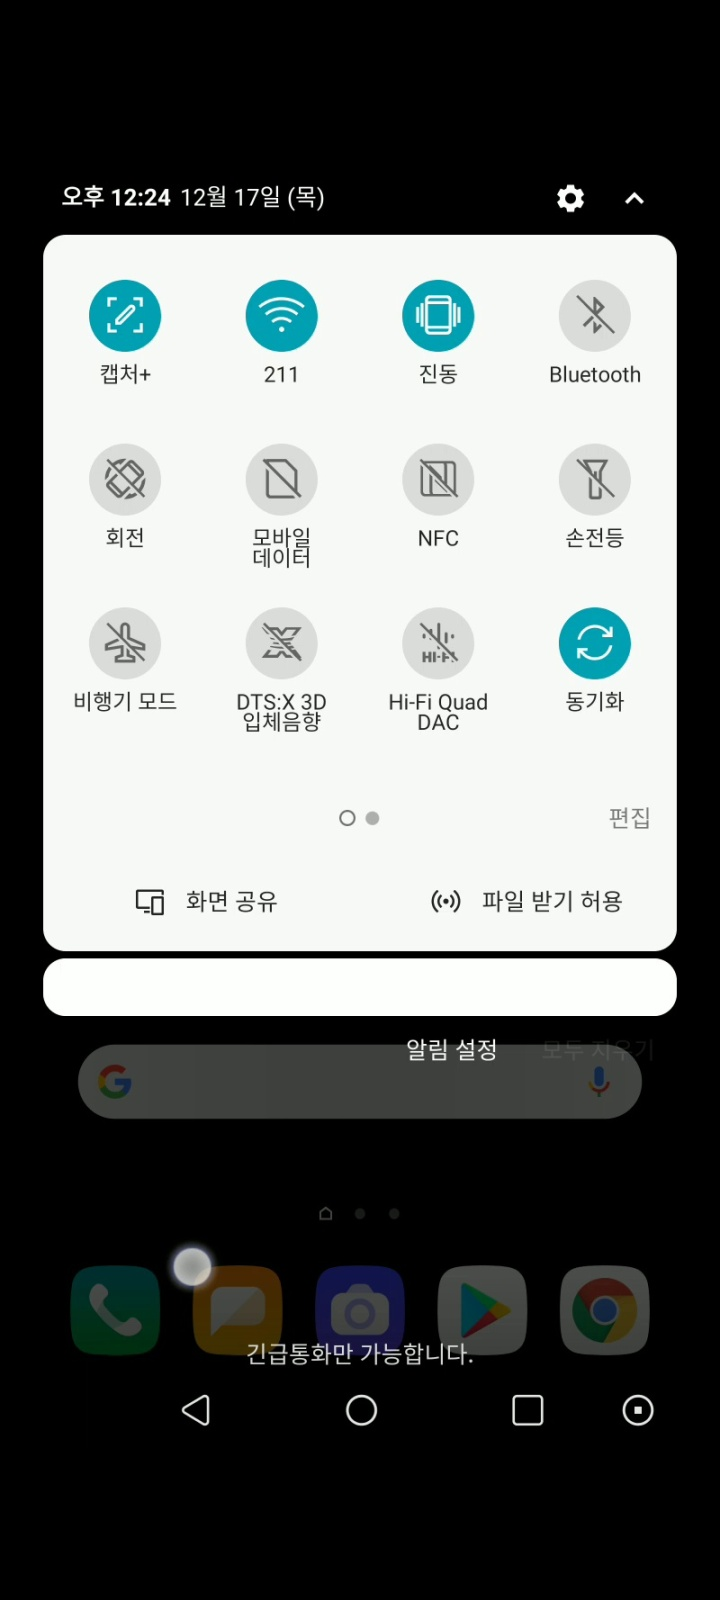Cursor: (169, 1245, 214, 1290)
